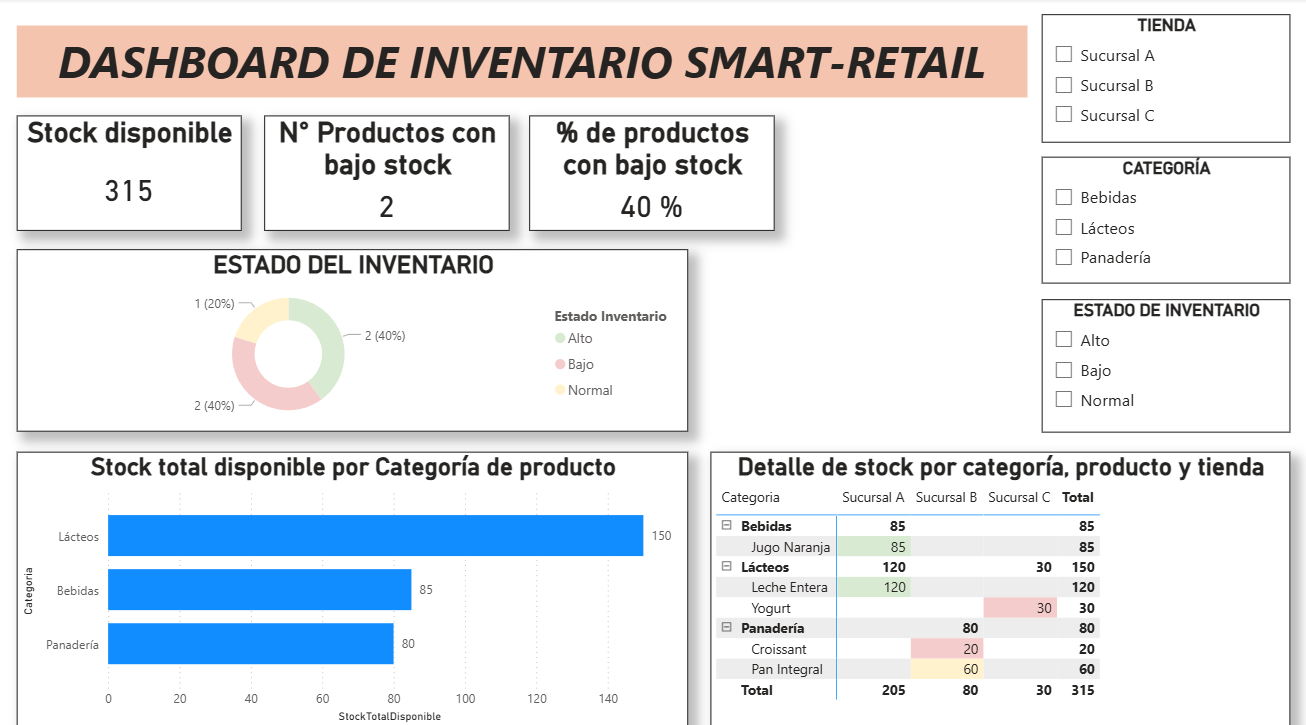

This screenshot's page, from the dashboard's own definition file:
{"tool":"powerbi","page":{"name":"INVENTARIO","canvas":[1280,720],"ordinal":1},"visuals":[{"type":"card","title":"Stock disponible","fields":{"Values":["hechos_inventario.StockTotalDisponible"]},"box":[18.6,114.9,220,112.9],"z":0},{"type":"card","title":"N° Productos con bajo stock","fields":{"Values":["hechos_inventario.ProductosStockBajo"]},"box":[260,114.9,240,112.9],"z":1000},{"type":"card","title":"% de productos con bajo stock","fields":{"Values":["hechos_inventario.PorcentajeStockBajo"]},"box":[520,114.9,240,112.9],"z":2000},{"type":"barChart","title":"Stock total disponible por Categoría de producto","fields":{"Category":["Dim_productos.Categoria"],"Y":["hechos_inventario.StockTotalDisponible"]},"box":[18.6,444.3,657.1,271.4],"z":3000},{"type":"donutChart","title":"ESTADO DEL INVENTARIO ","fields":{"Category":["hechos_inventario.Estado Inventario"],"Y":["hechos_inventario.ConteoProductos"]},"box":[18.6,245.7,657.1,178.6],"z":4000},{"type":"textbox","box":[18.6,27.1,988.6,70],"z":5000},{"type":"slicer","title":"TIENDA","fields":{"Values":["Dim_tienda.Tienda"]},"box":[1021.4,15.7,242.9,125.7],"z":6000},{"type":"pivotTable","title":"Detalle de stock por categoría, producto y tienda","fields":{"Rows":["Dim_productos.Categoria","Dim_productos.Producto"],"Columns":["Dim_tienda.Tienda"],"Values":["hechos_inventario.StockTotalDisponible"]},"box":[697.1,444.3,567.1,271.4],"z":7000},{"type":"slicer","title":"CATEGORÍA","fields":{"Values":["Dim_productos.Categoria"]},"box":[1021.4,155.7,242.9,124.3],"z":8000},{"type":"slicer","title":"ESTADO DE INVENTARIO","fields":{"Values":["hechos_inventario.Estado Inventario"]},"box":[1021.4,294.3,242.9,130],"z":9000}]}

Visuals, with their boxes in screenshot pixels (x1, y1, x2, y2), scaled from the page's 1280x720 canvas onto the 1306x725 screenshot:
"Stock disponible" card: [19,116,243,229]
"N° Productos con bajo stock" card: [265,116,510,229]
"% de productos con bajo stock" card: [531,116,775,229]
"Stock total disponible por Categoría de producto" barChart: [19,447,689,721]
"ESTADO DEL INVENTARIO " donutChart: [19,247,689,427]
textbox: [19,27,1028,98]
"TIENDA" slicer: [1042,16,1290,142]
"Detalle de stock por categoría, producto y tienda" pivotTable: [711,447,1290,721]
"CATEGORÍA" slicer: [1042,157,1290,282]
"ESTADO DE INVENTARIO" slicer: [1042,296,1290,427]
